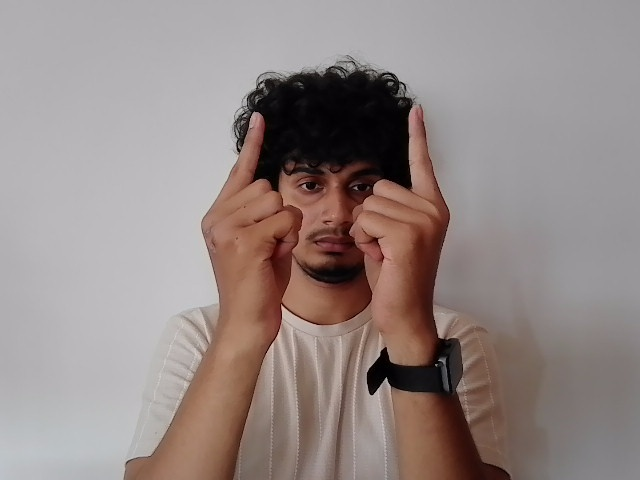play: (197, 105, 453, 311)
